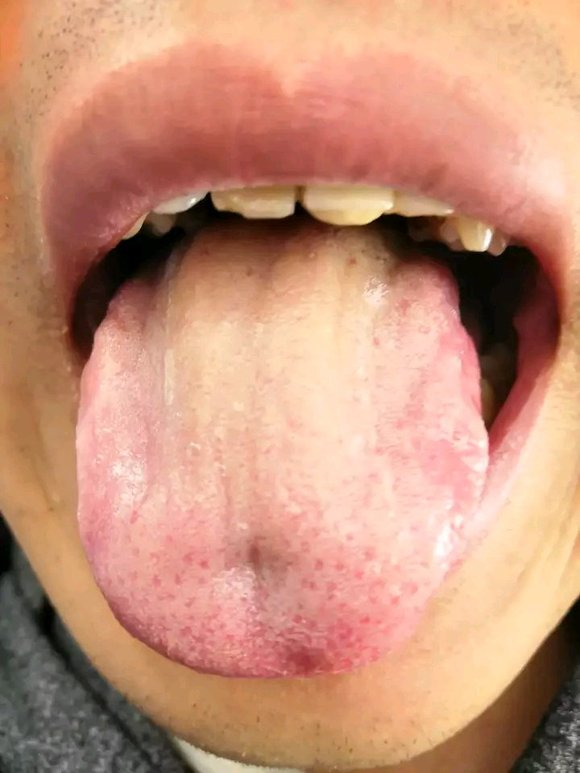gandanao: (353, 250, 485, 539), (72, 238, 184, 535)
hongdianshe: (198, 553, 211, 573)
huangtaishe: (73, 227, 487, 678)
